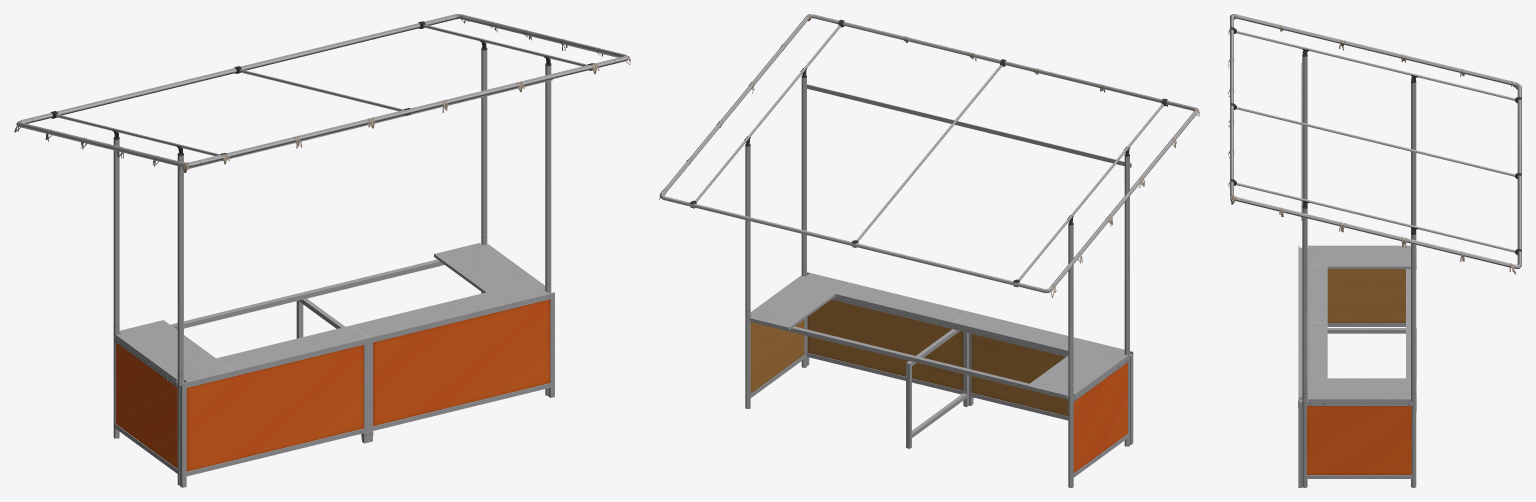
File: jsf_4P_s03_c01_t04.fbx
3 views of the same model, side by side, from view 1: azimuth 30°, elevation 25°; view 2: azimuth 150°, elevation 25°; view 3: azimuth 270°, elevation 25° (orthographic). The views are drawn at different scales.
Parts seen in each view (by area): view 1: Base_s03_c01, Pillar4_s03, Table_4P_s03_t04, Rope_4P_s03, Support; view 2: Base_s03_c01, Pillar4_s03, Table_4P_s03_t04, Support; view 3: Base_s03_c01, Pillar4_s03, Table_4P_s03_t04, Support, Rope_4P_s03.
Boxes of the visible parts, <box> form: Base_s03_c01: <box>114,292,554,487</box>; Pillar4_s03: <box>16,14,628,485</box>; Table_4P_s03_t04: <box>115,243,548,386</box>; Rope_4P_s03: <box>14,14,630,172</box>; Support: <box>296,298,361,439</box>; Base_s03_c01: <box>750,272,1133,477</box>; Pillar4_s03: <box>659,14,1198,487</box>; Table_4P_s03_t04: <box>749,273,1128,400</box>; Support: <box>906,329,968,448</box>; Base_s03_c01: <box>1298,245,1412,487</box>; Pillar4_s03: <box>1230,14,1521,487</box>; Table_4P_s03_t04: <box>1299,245,1416,405</box>; Support: <box>1327,328,1416,411</box>; Rope_4P_s03: <box>1228,14,1517,274</box>.
Size of the model in its own units: 316 by 243 by 211.
